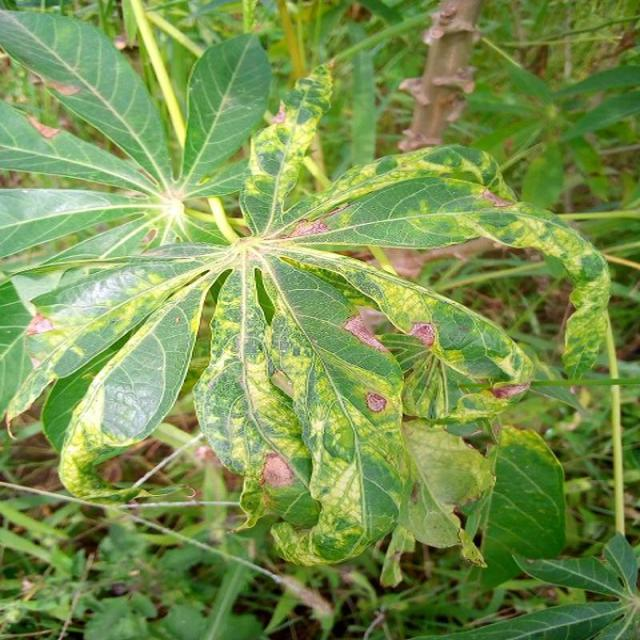Mosaico: (56, 234, 500, 572), (219, 55, 620, 399)
